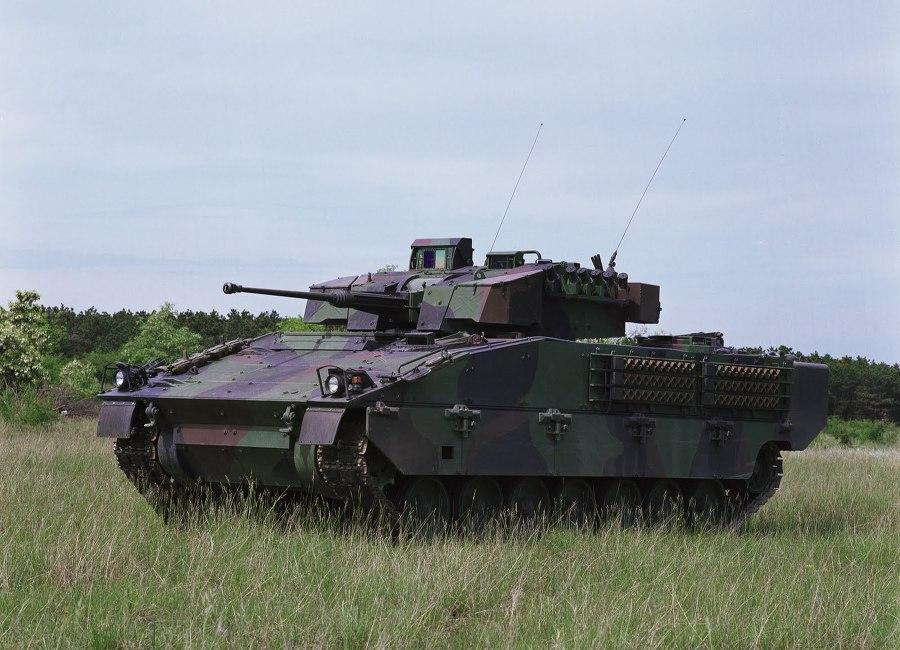MIL_IFV: (95, 234, 833, 551)
